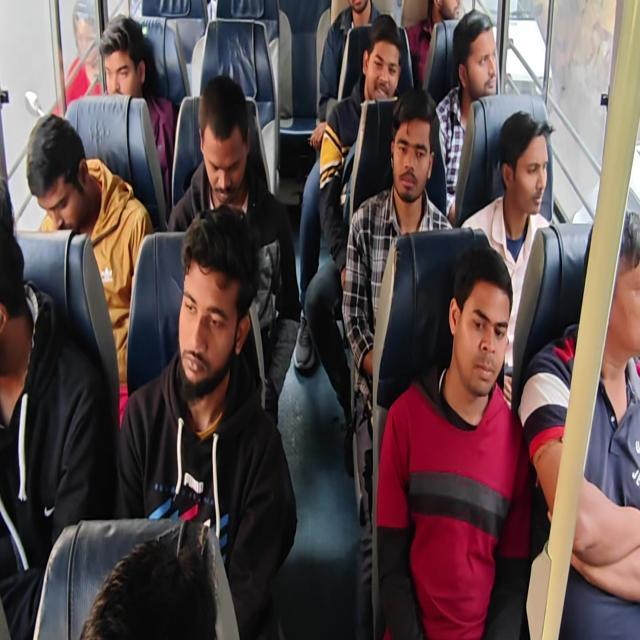person: (1, 1, 638, 638), (115, 204, 298, 638), (341, 87, 454, 637), (375, 245, 532, 638), (0, 176, 115, 638), (518, 208, 640, 638), (167, 74, 301, 425), (303, 13, 403, 474), (26, 112, 154, 428), (460, 109, 553, 408), (98, 16, 176, 206), (80, 538, 218, 638), (434, 9, 498, 222), (309, 0, 381, 151), (406, 0, 462, 90), (64, 0, 103, 108)
